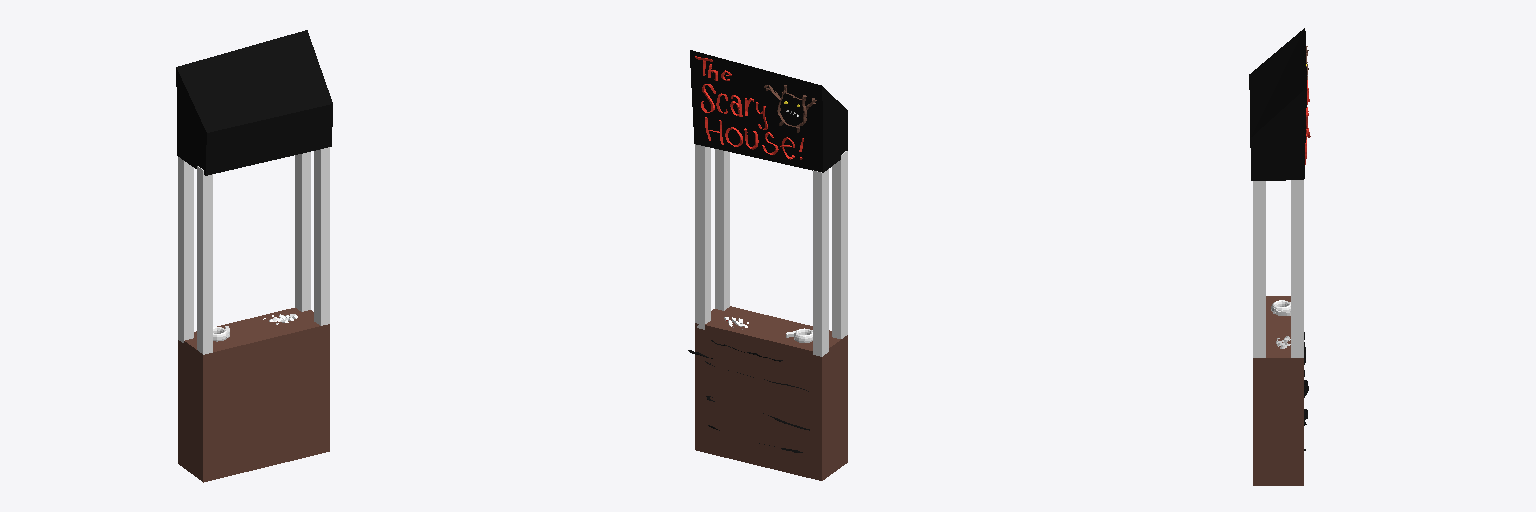
3 renders of one model, left to right at view 1: azimuth 30°, elevation 25°; view 2: azimuth 150°, elevation 25°; view 3: azimuth 270°, elevation 25°, orthographic.
Visible parts, largest first — view 1: group[number redacted], group[number redacted], group[number redacted], group[number redacted], group[number redacted], group[number redacted]; view 2: group[number redacted], group[number redacted], group[number redacted], group[number redacted], group[number redacted], group[number redacted]; view 3: group[number redacted], group[number redacted], group[number redacted], group[number redacted].
Part boxes in pixels (left/top/right/bottom): group[number redacted]: left=178, top=308, right=329, bottom=482; group[number redacted]: left=176, top=30, right=332, bottom=175; group[number redacted]: left=197, top=166, right=212, bottom=354; group[number redacted]: left=178, top=157, right=193, bottom=342; group[number redacted]: left=314, top=147, right=329, bottom=325; group[number redacted]: left=295, top=152, right=310, bottom=311; group[number redacted]: left=695, top=306, right=847, bottom=480; group[number redacted]: left=690, top=50, right=847, bottom=172; group[number redacted]: left=813, top=169, right=828, bottom=356; group[number redacted]: left=695, top=144, right=710, bottom=329; group[number redacted]: left=832, top=151, right=847, bottom=338; group[number redacted]: left=715, top=149, right=729, bottom=310; group[number redacted]: left=1253, top=296, right=1303, bottom=485; group[number redacted]: left=1249, top=28, right=1306, bottom=180; group[number redacted]: left=1291, top=180, right=1303, bottom=357; group[number redacted]: left=1253, top=181, right=1265, bottom=357.
Size of the model in its own units: 0.8456 by 2.42 by 0.3357.